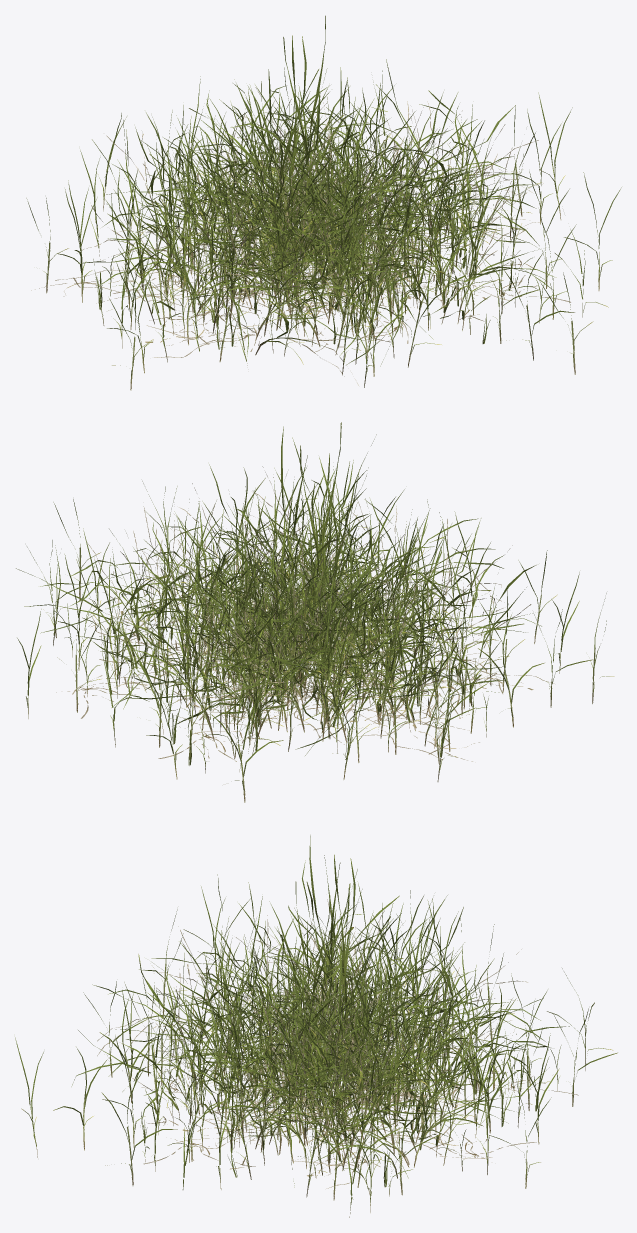
File: wiljearqx_tier_3_nonUE.gltf
3 renders of one model, top to bottom at view 1: azimuth 30°, elevation 25°; view 2: azimuth 150°, elevation 25°; view 3: azimuth 270°, elevation 25°, orthographic. The views are drawn at different scales.
Visible parts, largest first — view 1: SM_wiljearqx_VarC, SM_wiljearqx_VarG, SM_wiljearqx_VarF, SM_wiljearqx_VarD, SM_wiljearqx_VarE, SM_wiljearqx_VarA, SM_wiljearqx_VarH, SM_wiljearqx_VarB; view 2: SM_wiljearqx_VarC, SM_wiljearqx_VarG, SM_wiljearqx_VarF, SM_wiljearqx_VarD, SM_wiljearqx_VarE, SM_wiljearqx_VarA, SM_wiljearqx_VarH, SM_wiljearqx_VarB; view 3: SM_wiljearqx_VarC, SM_wiljearqx_VarF, SM_wiljearqx_VarG, SM_wiljearqx_VarE, SM_wiljearqx_VarD, SM_wiljearqx_VarA, SM_wiljearqx_VarH, SM_wiljearqx_VarB.
Boxes of the visible parts, x1,y1,x2,y2 form: SM_wiljearqx_VarC: [26, 67, 621, 390]; SM_wiljearqx_VarG: [77, 83, 556, 385]; SM_wiljearqx_VarF: [92, 59, 543, 356]; SM_wiljearqx_VarD: [104, 89, 488, 364]; SM_wiljearqx_VarE: [97, 86, 520, 353]; SM_wiljearqx_VarA: [230, 15, 393, 310]; SM_wiljearqx_VarH: [93, 151, 556, 356]; SM_wiljearqx_VarB: [189, 69, 438, 298]; SM_wiljearqx_VarC: [17, 434, 614, 802]; SM_wiljearqx_VarG: [16, 460, 541, 755]; SM_wiljearqx_VarF: [40, 466, 525, 737]; SM_wiljearqx_VarD: [140, 515, 486, 754]; SM_wiljearqx_VarE: [91, 502, 502, 752]; SM_wiljearqx_VarA: [200, 422, 384, 700]; SM_wiljearqx_VarH: [54, 500, 488, 773]; SM_wiljearqx_VarB: [172, 457, 409, 711]; SM_wiljearqx_VarC: [15, 874, 617, 1217]; SM_wiljearqx_VarF: [92, 895, 525, 1178]; SM_wiljearqx_VarG: [71, 860, 569, 1187]; SM_wiljearqx_VarE: [166, 923, 522, 1178]; SM_wiljearqx_VarD: [137, 908, 516, 1175]; SM_wiljearqx_VarA: [246, 835, 416, 1119]; SM_wiljearqx_VarH: [141, 959, 561, 1196]; SM_wiljearqx_VarB: [244, 855, 475, 1125].
Size of what is drawn, in the model's own units: 1.15 by 0.5879 by 1.18.
1 material, 1 textured.
